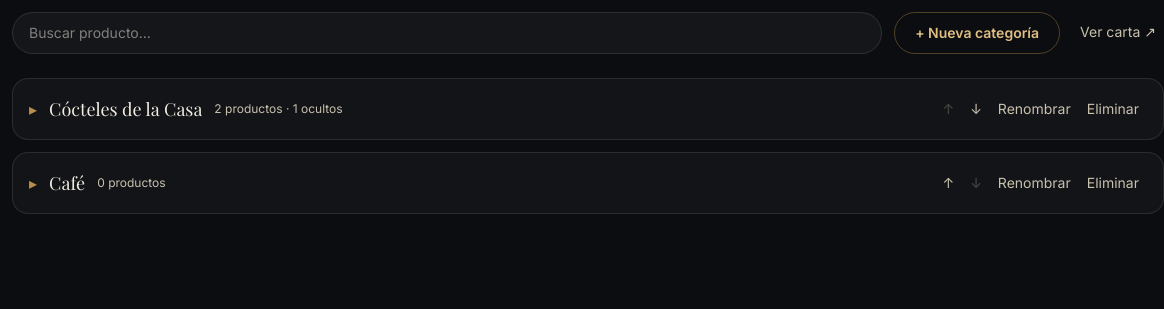
Test: MenuEditor › won't delete a category that still has products
Click the 1st button "Eliminar" at (1113, 109), box [1079,95,1147,123]
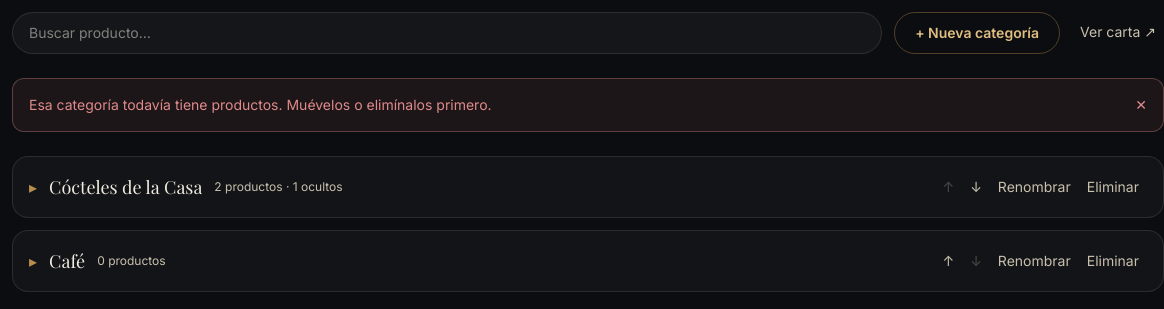
Check: the message shows "todavía tiene productos", box [29,96,492,113]
